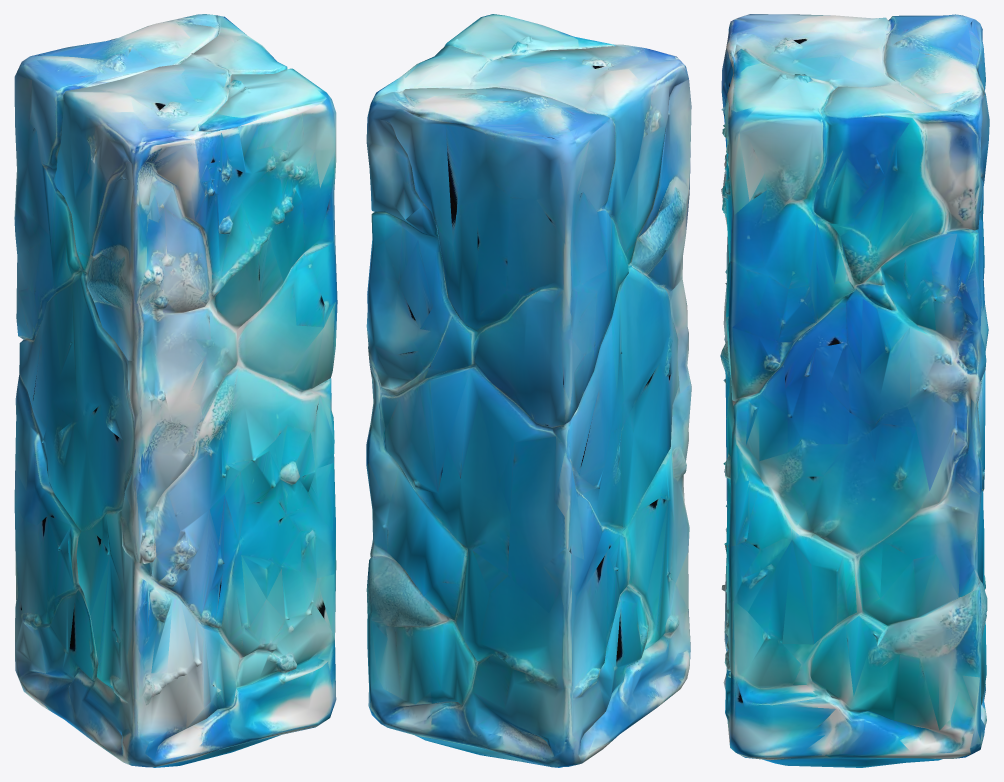
File: buz_dikey_kup.glb
3 views of the same model, side by side, from view 1: azimuth 30°, elevation 25°; view 2: azimuth 150°, elevation 25°; view 3: azimuth 270°, elevation 25° (orthographic). The views are drawn at different scales.
Visible parts, largest first — view 1: tripo_node_c82e71e9-f273-487a-a92f-f8329459451b; view 2: tripo_node_c82e71e9-f273-487a-a92f-f8329459451b; view 3: tripo_node_c82e71e9-f273-487a-a92f-f8329459451b.
Part boxes in pixels (<box>): tripo_node_c82e71e9-f273-487a-a92f-f8329459451b: <box>14,14,337,767</box>; tripo_node_c82e71e9-f273-487a-a92f-f8329459451b: <box>366,14,691,767</box>; tripo_node_c82e71e9-f273-487a-a92f-f8329459451b: <box>720,14,989,767</box>.
Bounding box in the file's own units: 0.3406 × 0.9818 × 0.356.
1 material, 1 textured.
